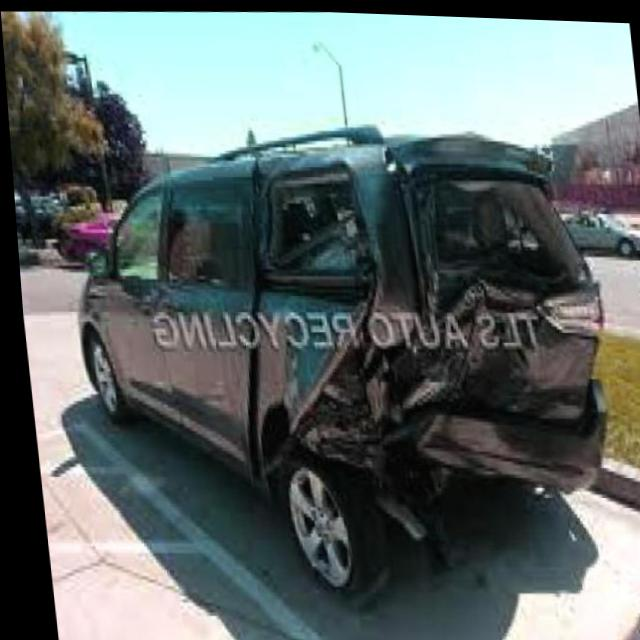Car-Damage: (210, 115, 619, 566)
